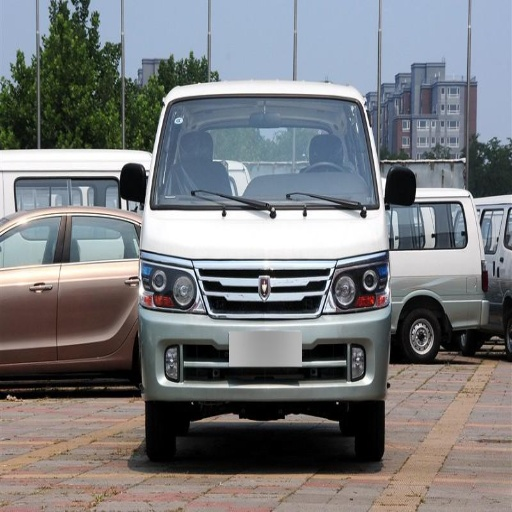front_bumper: (138, 259, 398, 400)
front_glass: (153, 98, 376, 209)
front_left_door: (2, 214, 66, 367)
hood: (141, 210, 385, 259)
trunk: (428, 255, 499, 327)
